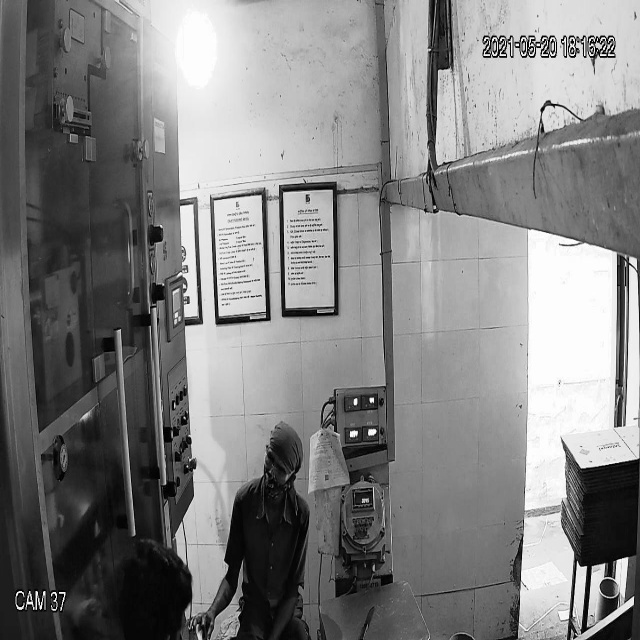Gafas: (261, 445, 296, 487)
